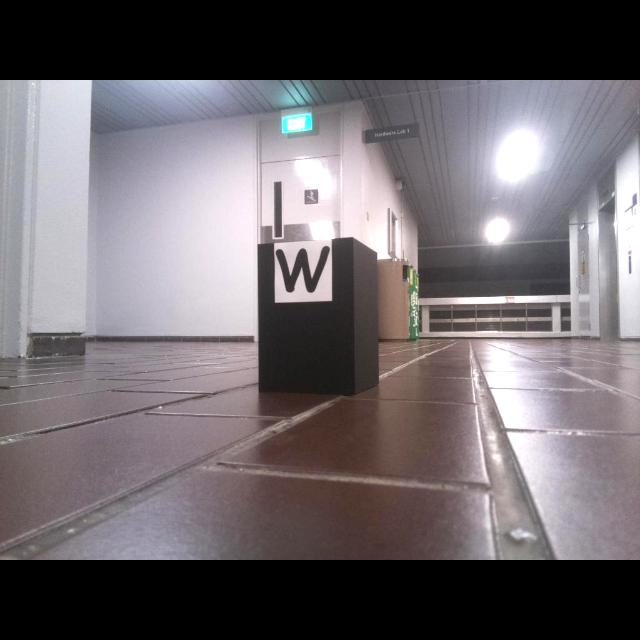W: (275, 245, 331, 294)
